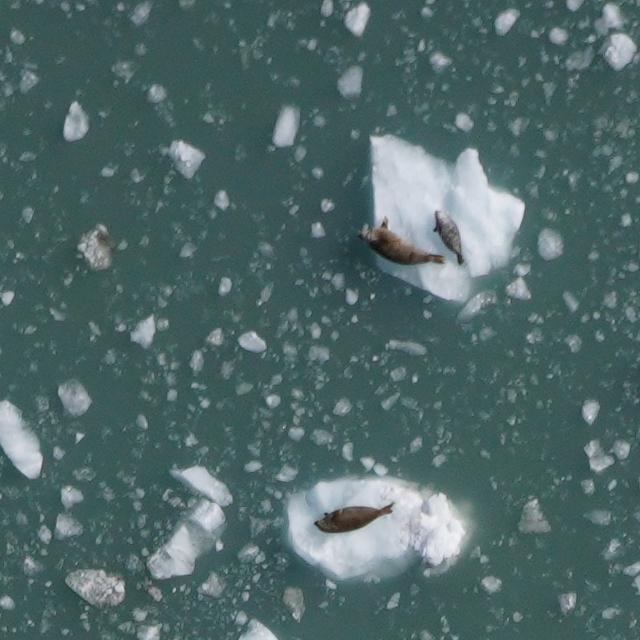seal: (352, 212, 449, 270), (310, 498, 401, 538), (428, 207, 470, 271)
